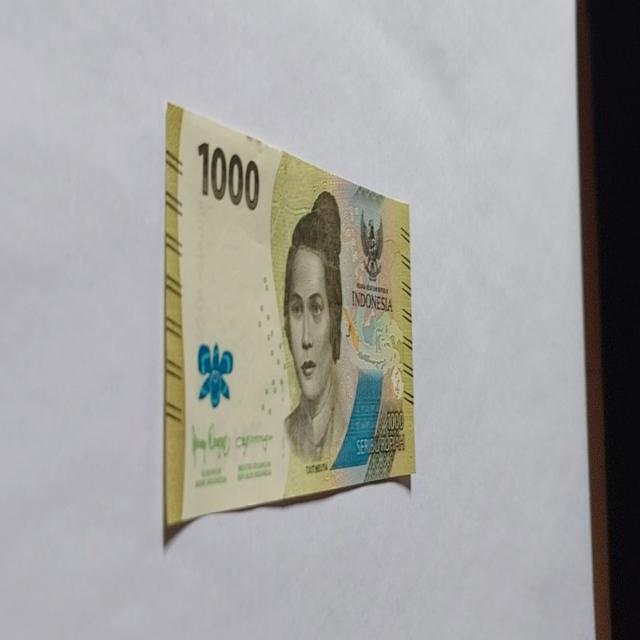seribu rupiah kertas: (163, 100, 415, 534)
